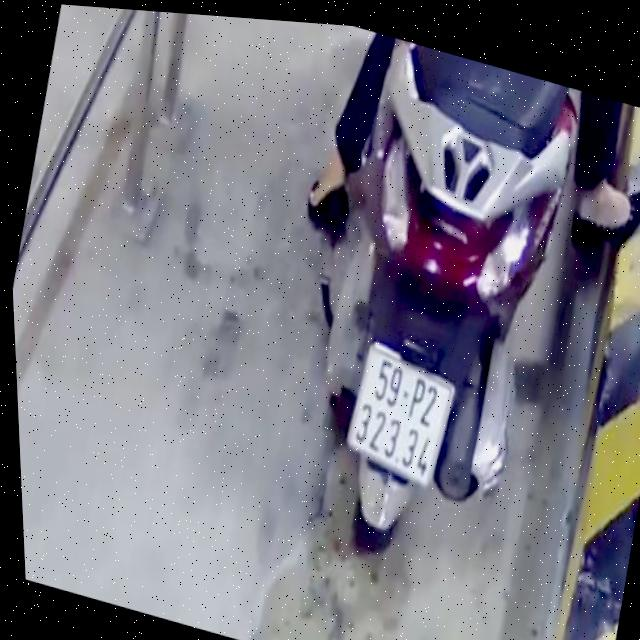motorcycle: (271, 27, 609, 618)
plate: (334, 335, 466, 494)
